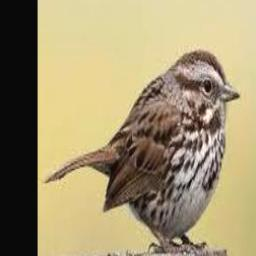Sparrow: (45, 50, 240, 255)
